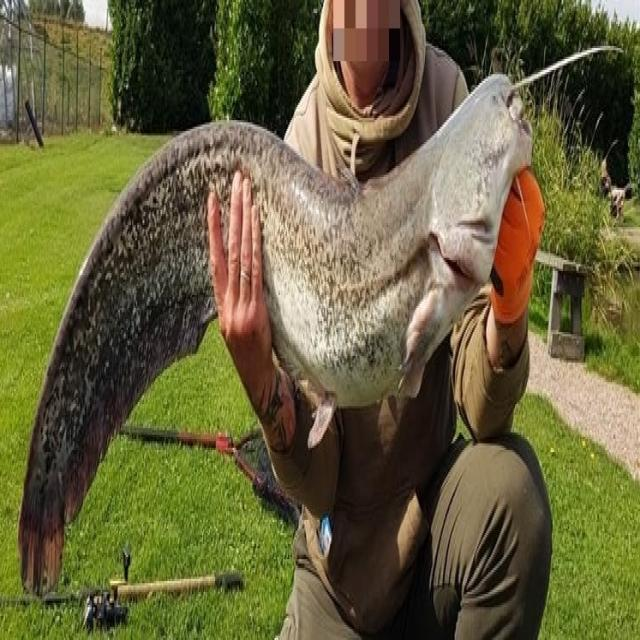Catfish: (15, 19, 579, 636)
